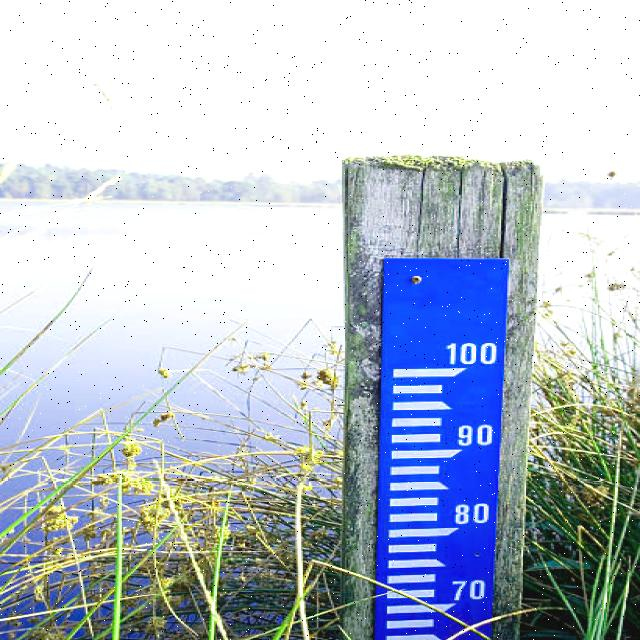10: (439, 339, 482, 366)
80: (451, 501, 490, 526)
90: (455, 419, 499, 450)
staff: (381, 328, 505, 640)
